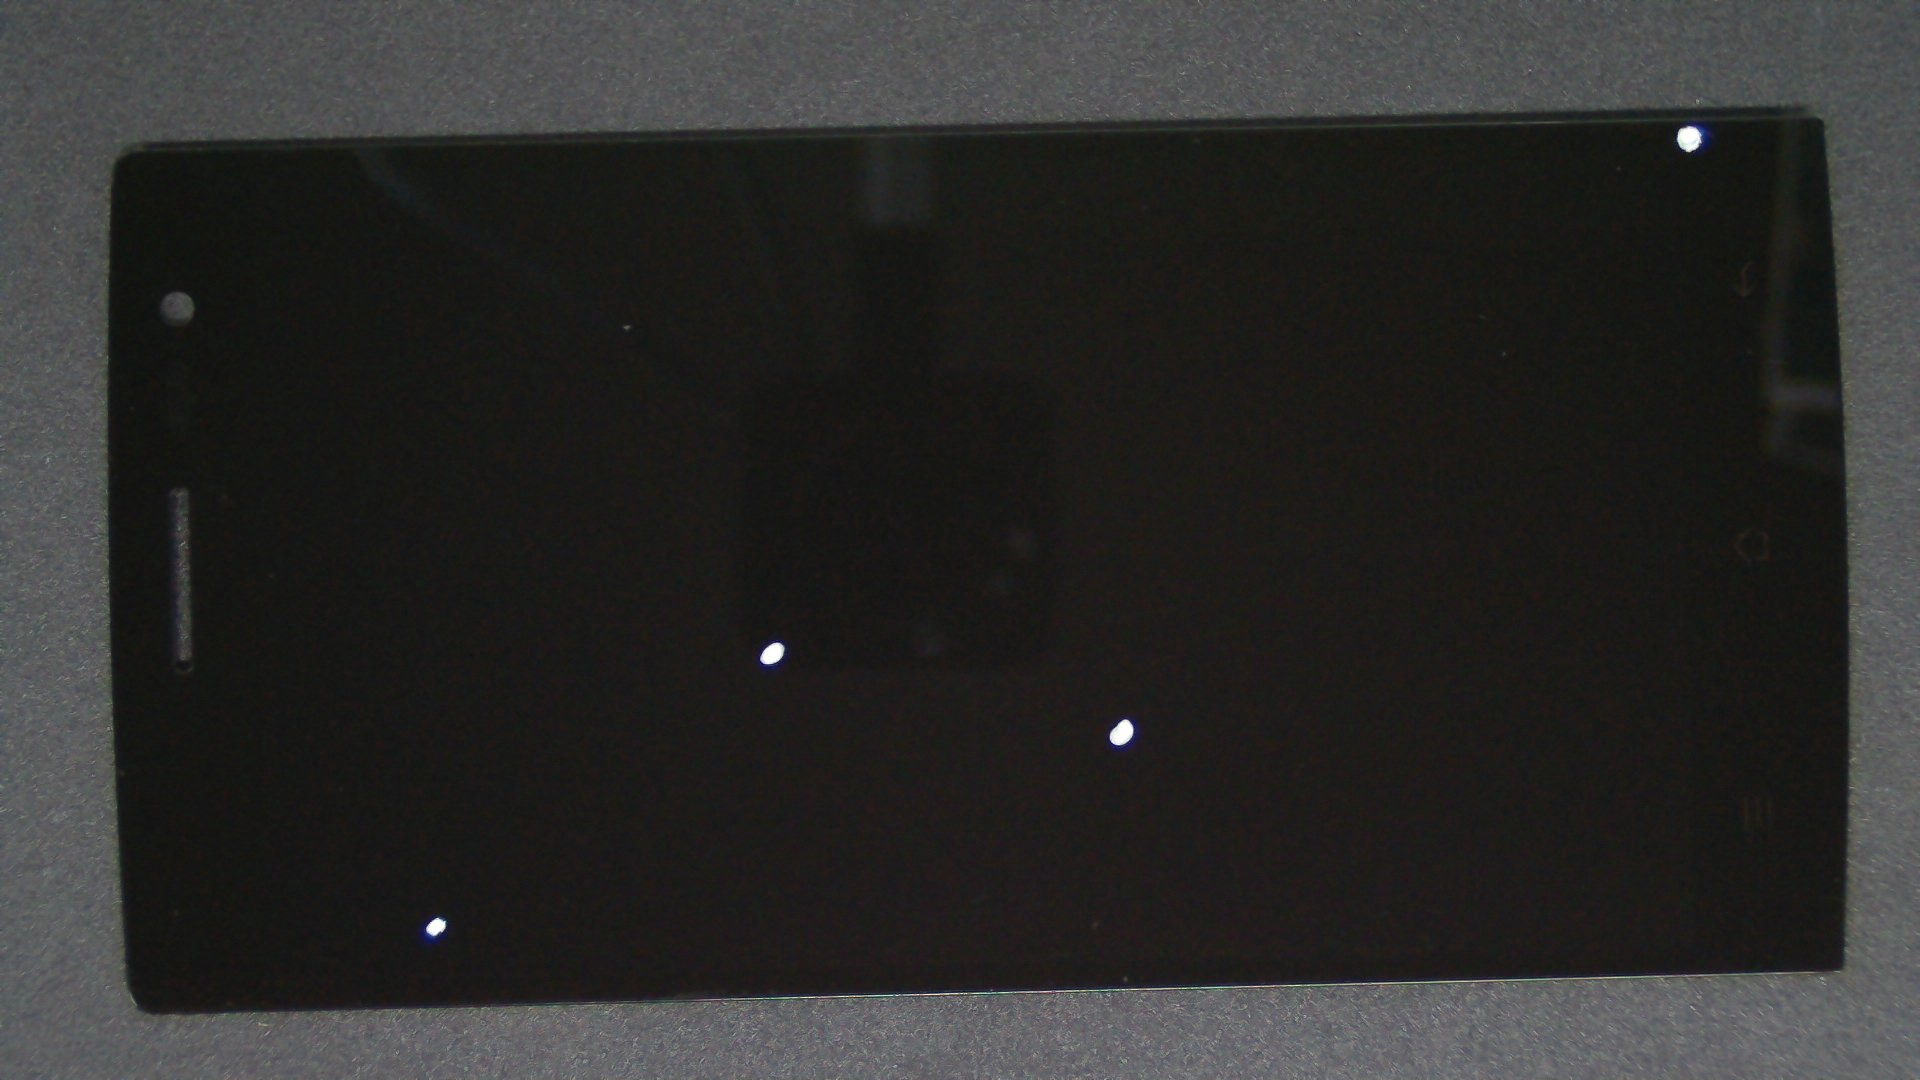oil: (563, 357, 1685, 1076), (388, 320, 1160, 963), (219, 458, 653, 1080), (847, 62, 1920, 186)
